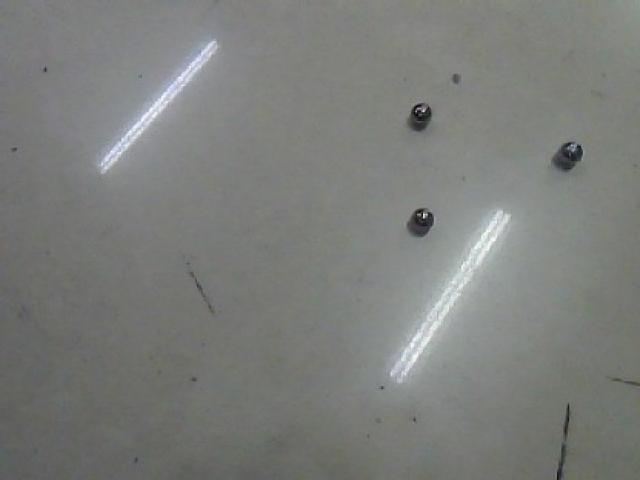steel-ball: (401, 91, 454, 137), (543, 132, 591, 174), (402, 188, 440, 237)
